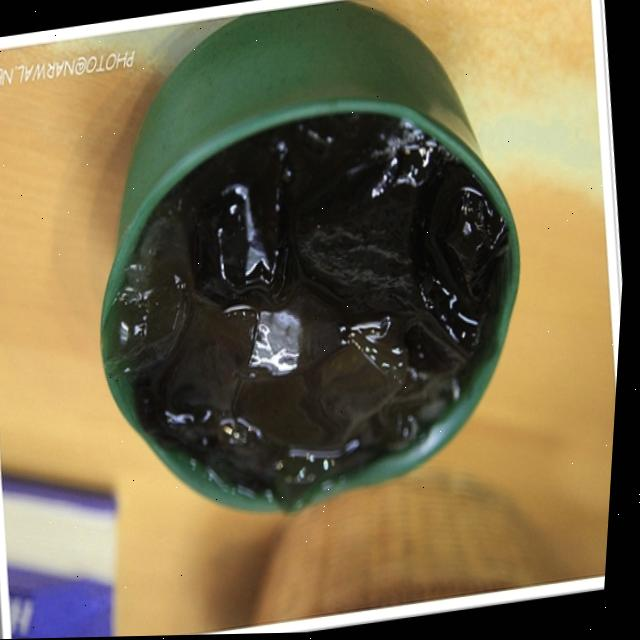蛋糕甜品: (73, 86, 562, 527)
